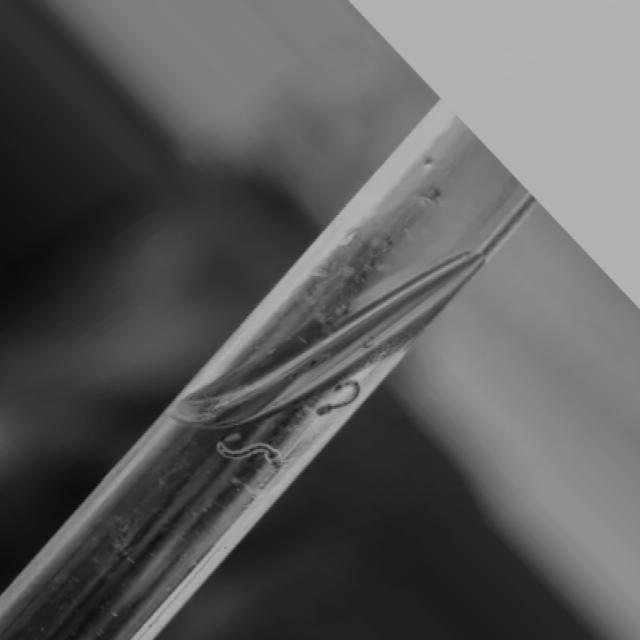larvas: (314, 377, 360, 417), (216, 443, 281, 468)
